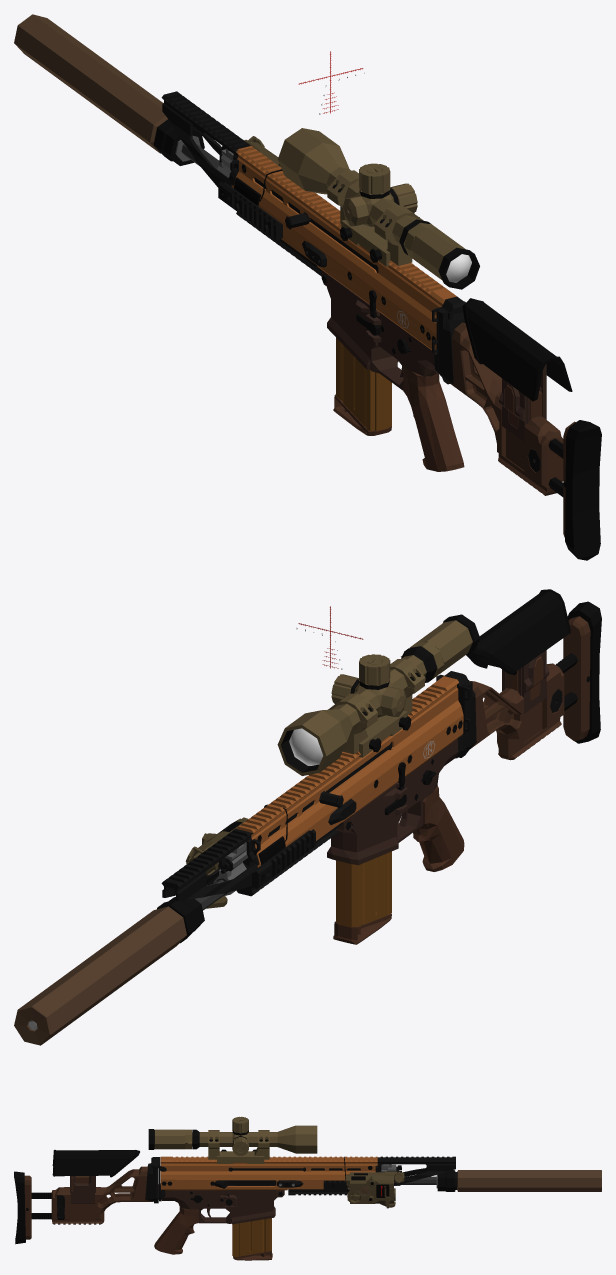
File: SCAR_H_SF.fbx
3 renders of one model, top to bottom at view 1: azimuth 30°, elevation 25°; view 2: azimuth 150°, elevation 25°; view 3: azimuth 270°, elevation 25°, orthographic. The views are drawn at different scales.
Visible parts, largest first — view 1: meshes[5]-7, meshes[10]-0, meshes[13]-0, meshes[5]-4, meshes[5]-9, meshes[5]-0, meshes[14]-1, meshes[12]-3, meshes[5]-2, meshes[3]-1, meshes[10]-1, meshes[12]-0 (+4 smaller); view 2: meshes[5]-7, meshes[10]-0, meshes[13]-0, meshes[5]-4, meshes[5]-0, meshes[5]-9, meshes[12]-3, meshes[3]-1, meshes[14]-0, meshes[5]-2, meshes[10]-1, meshes[14]-1 (+9 smaller); view 3: meshes[5]-7, meshes[10]-0, meshes[13]-0, meshes[5]-4, meshes[5]-0, meshes[5]-9, meshes[12]-3, meshes[6]-0, meshes[3]-1, meshes[5]-2, meshes[14]-1, meshes[0]-0 (+7 smaller).
Boxes of the visible parts, x1,y1,x2,y2 form: meshes[5]-7: [231, 146, 456, 353]; meshes[10]-0: [277, 128, 465, 280]; meshes[13]-0: [14, 14, 167, 153]; meshes[5]-4: [161, 91, 465, 384]; meshes[5]-9: [447, 322, 563, 495]; meshes[5]-0: [321, 270, 437, 390]; meshes[14]-1: [565, 420, 601, 560]; meshes[12]-3: [466, 300, 568, 400]; meshes[5]-2: [403, 367, 464, 471]; meshes[3]-1: [336, 337, 391, 431]; meshes[10]-1: [332, 184, 479, 289]; meshes[12]-0: [499, 364, 546, 441]; meshes[5]-7: [236, 676, 463, 867]; meshes[10]-0: [277, 620, 472, 775]; meshes[13]-0: [14, 906, 186, 1045]; meshes[5]-4: [161, 671, 476, 901]; meshes[5]-0: [327, 738, 459, 865]; meshes[5]-9: [469, 663, 564, 760]; meshes[12]-3: [476, 591, 569, 671]; meshes[3]-1: [336, 851, 391, 927]; meshes[14]-0: [563, 616, 590, 741]; meshes[5]-2: [413, 785, 464, 871]; meshes[10]-1: [281, 614, 479, 772]; meshes[14]-1: [567, 601, 601, 743]; meshes[5]-7: [160, 1156, 377, 1190]; meshes[10]-0: [154, 1116, 317, 1163]; meshes[13]-0: [457, 1170, 601, 1191]; meshes[5]-4: [145, 1156, 455, 1203]; meshes[5]-0: [158, 1184, 284, 1224]; meshes[5]-9: [51, 1166, 153, 1224]; meshes[12]-3: [53, 1150, 135, 1176]; meshes[6]-0: [345, 1171, 404, 1208]; meshes[3]-1: [232, 1218, 271, 1256]; meshes[5]-2: [154, 1207, 198, 1254]; meshes[14]-1: [14, 1171, 25, 1244]; meshes[0]-0: [228, 1167, 360, 1185].
Bounding box in the file's own units: 0.0925 × 0.3943 × 1.15.
